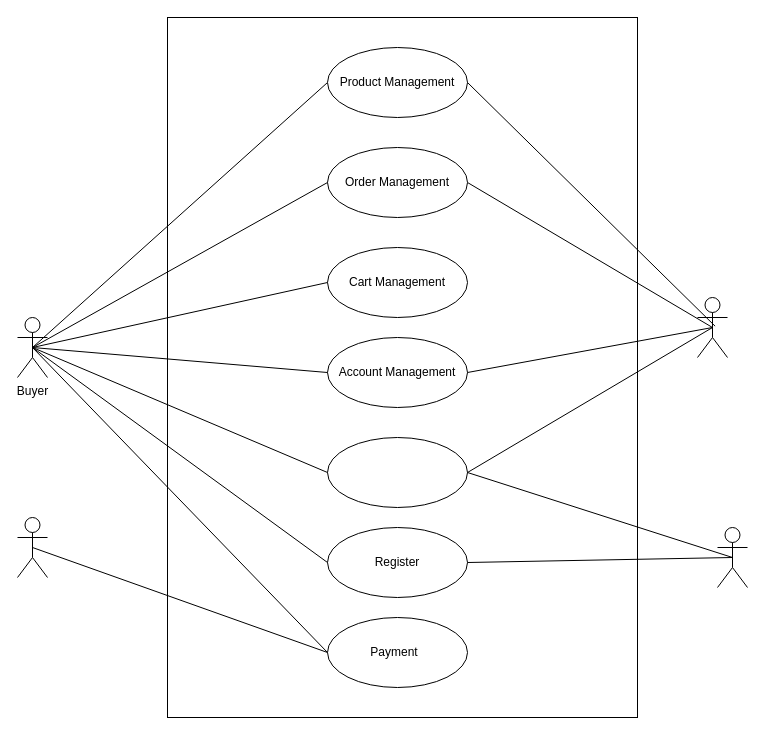
The diagram is 773 pixels wide and 735 high, and some of its shapes have lost their labels. The centre of each missing label's shape, as x and y in pixels:
Admin: point (712, 327)
Firebase: point (732, 557)
Login: point (397, 472)
Stripe: point (32, 547)
